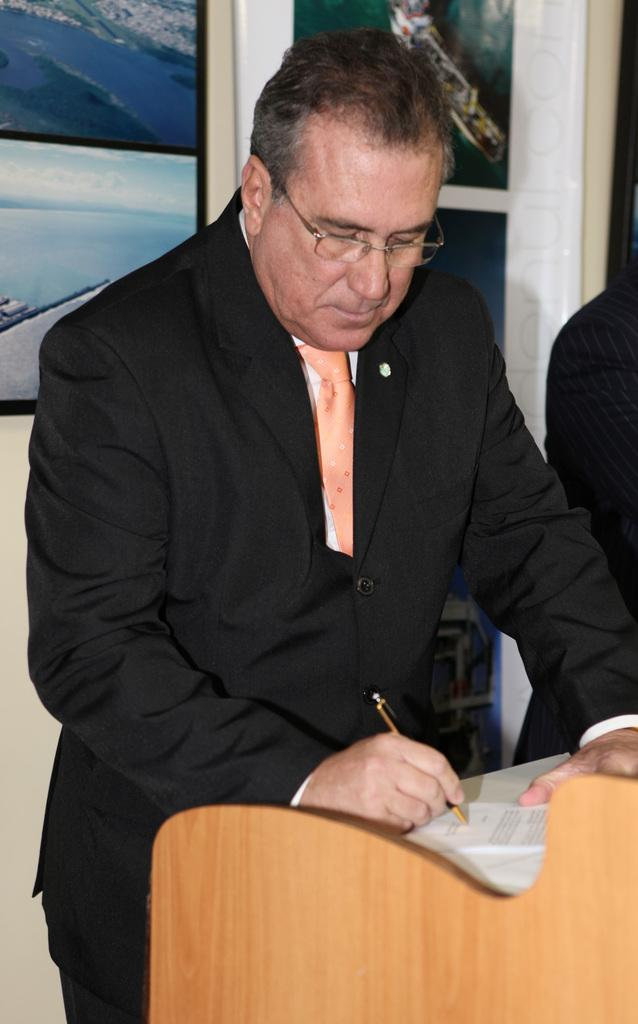no_helmet: (248, 18, 426, 396)
none: (136, 262, 468, 814)
